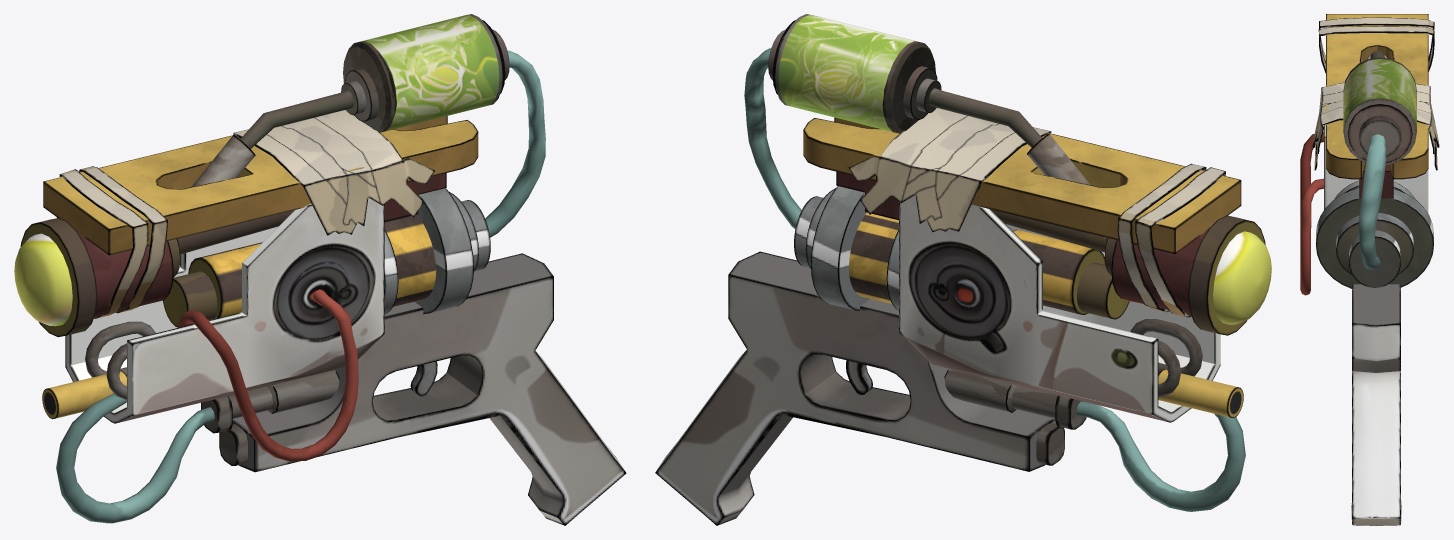
The model's file is Poision_Drip2.fbx.
3 renders of one model, left to right at view 1: azimuth 30°, elevation 25°; view 2: azimuth 150°, elevation 25°; view 3: azimuth 270°, elevation 25°, orthographic. The views are drawn at different scales.
Visible parts, largest first — view 1: body, glass; view 2: body, glass; view 3: body, glass.
Boxes of the visible parts, bbox=[...] form: body: bbox=[20, 14, 626, 525]; glass: bbox=[14, 15, 499, 326]; body: bbox=[655, 14, 1265, 525]; glass: bbox=[778, 15, 1271, 324]; body: bbox=[1300, 14, 1439, 525]; glass: bbox=[1343, 59, 1416, 130].
Size of the model in its own units: 1.81 by 1.51 by 0.4725.
2 materials, 2 textured.
